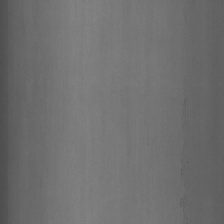silk_spot: (173, 50, 196, 208)
